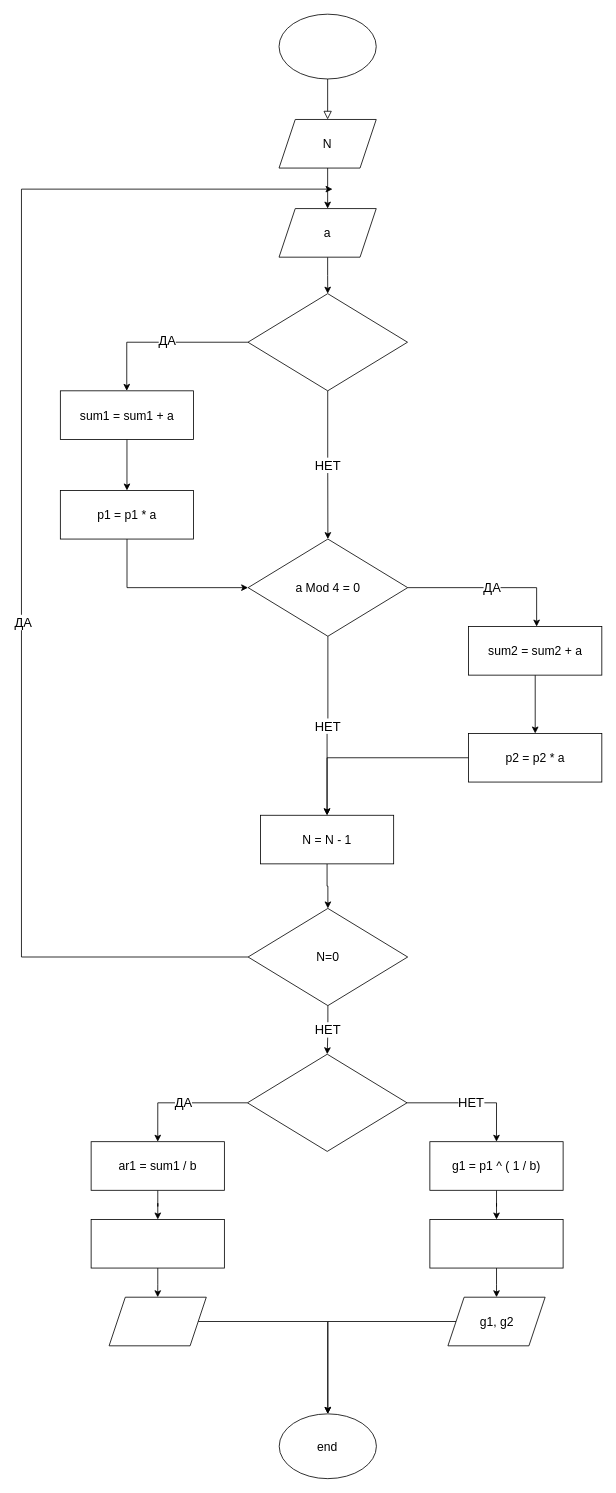
Image size: 616x1493. Some labels were removed from this diagram. The shapes that lost their labels are listed below. From the top down, each one's box as (x1, y1, x2, y2) in pixels, then its label:
(278, 13, 376, 79): start
(247, 293, 408, 391): a Mod 3 = 0
(247, 1053, 407, 1151): sum1 > sum2
(90, 1219, 224, 1268): ar2 = sum2 / b
(429, 1219, 563, 1268): g2 = p2 ^ ( 1 / b)
(108, 1296, 206, 1346): ar1, ar2
